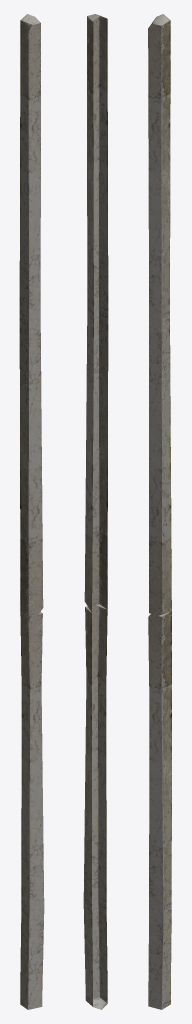
The model's file is border_20m_white_edge.glb.
3 renders of one model, left to right at view 1: azimuth 30°, elevation 25°; view 2: azimuth 210°, elevation 25°; view 3: azimuth 330°, elevation 25°, orthographic.
Parts seen in each view (by area): view 1: set_0_group_0; view 2: set_0_group_0; view 3: set_0_group_0.
Part boxes in pixels (x1,y1,x2,y2): set_0_group_0: (19,14,44,1009); set_0_group_0: (83,14,108,1009); set_0_group_0: (148,14,171,1009).
Size of the model in its own units: 0.3457 by 20.19 by 0.3118.
Materials: 1 (1 with a texture image).
